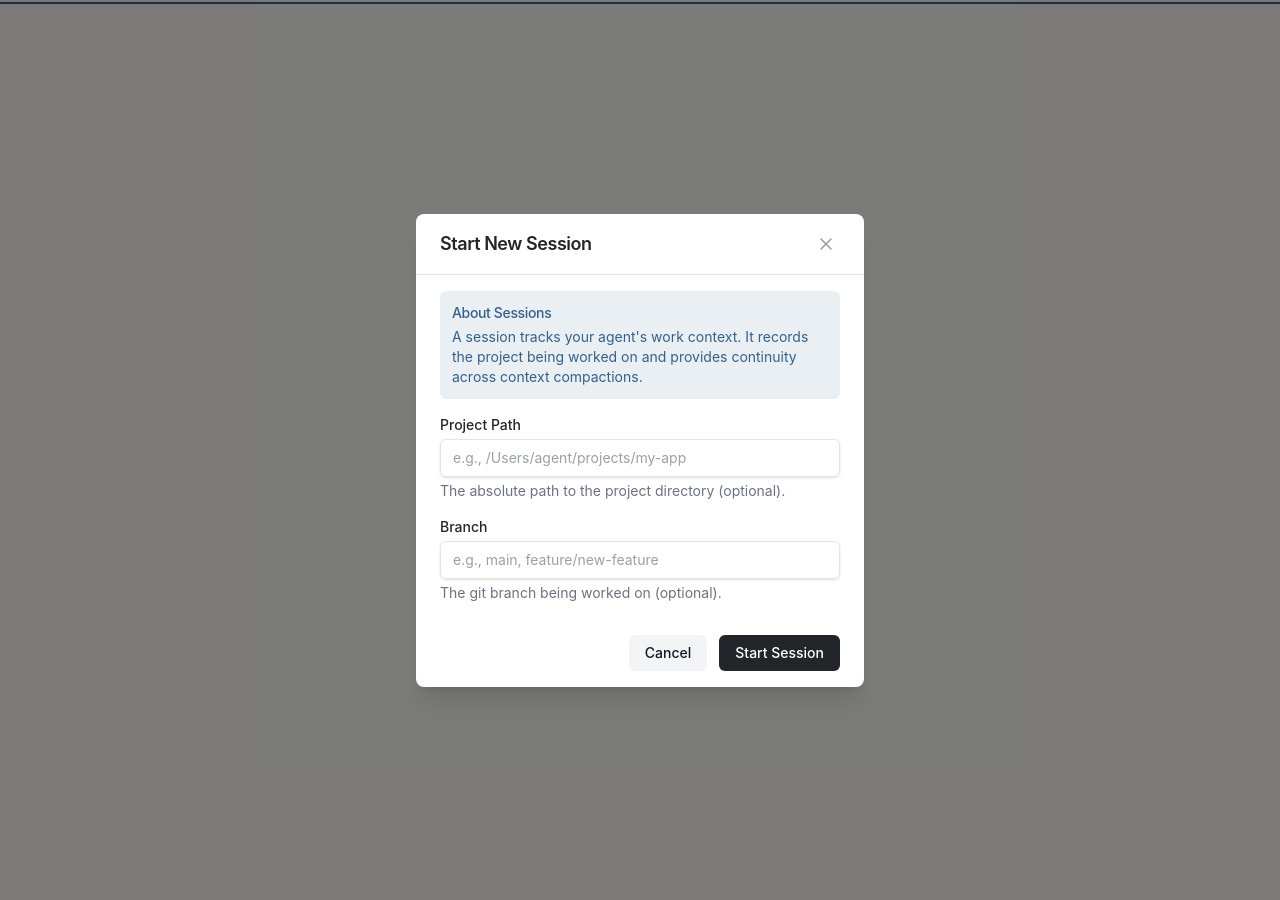
it: StartSessionModal › validates project path format
The width and height of the screenshot is (1280, 900).
In the field labelled "Project Path": (640, 458) top-left (440, 438), bottom-right (840, 476), type "relative/path"
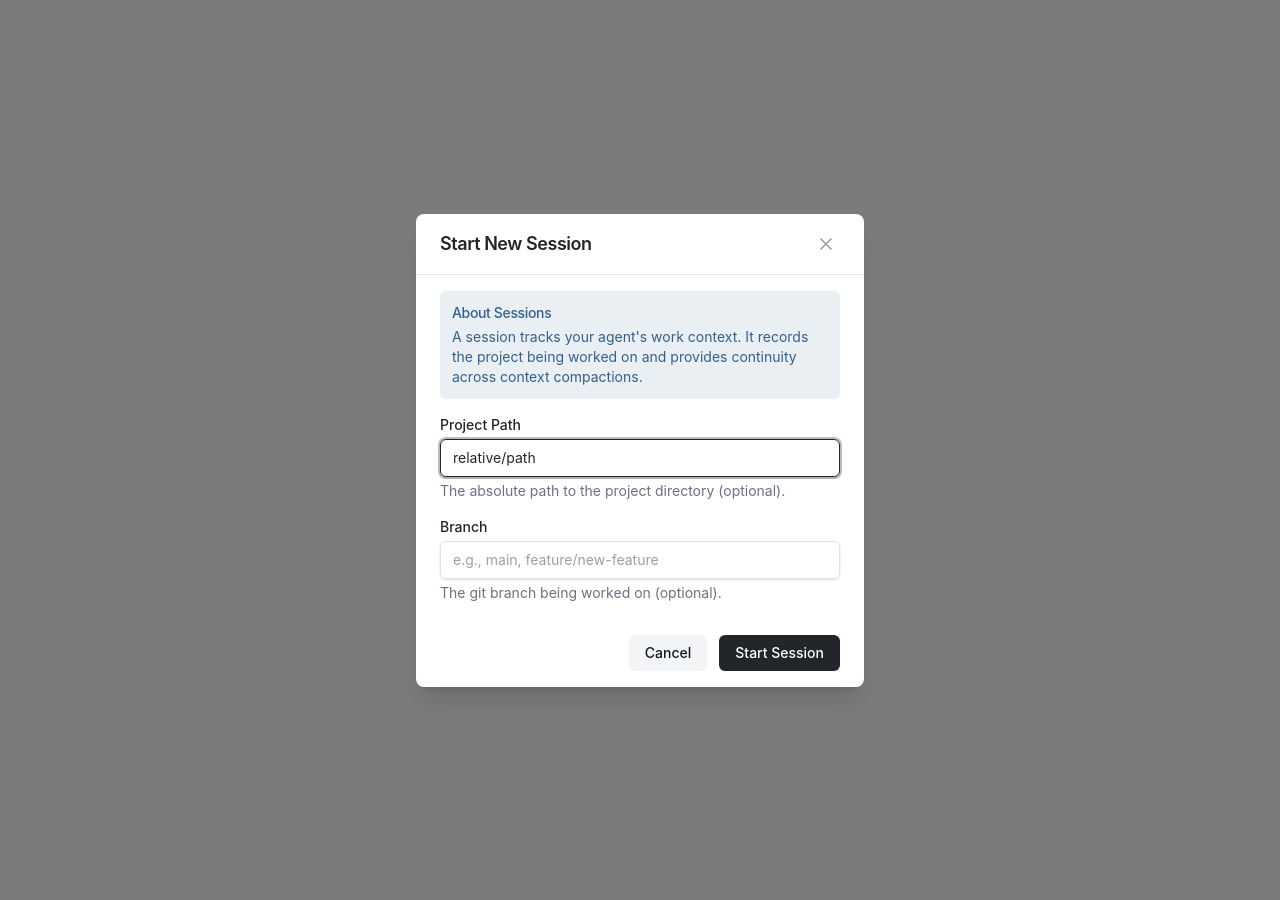
Click the button "Start Session": (780, 652) top-left (719, 634), bottom-right (840, 670)
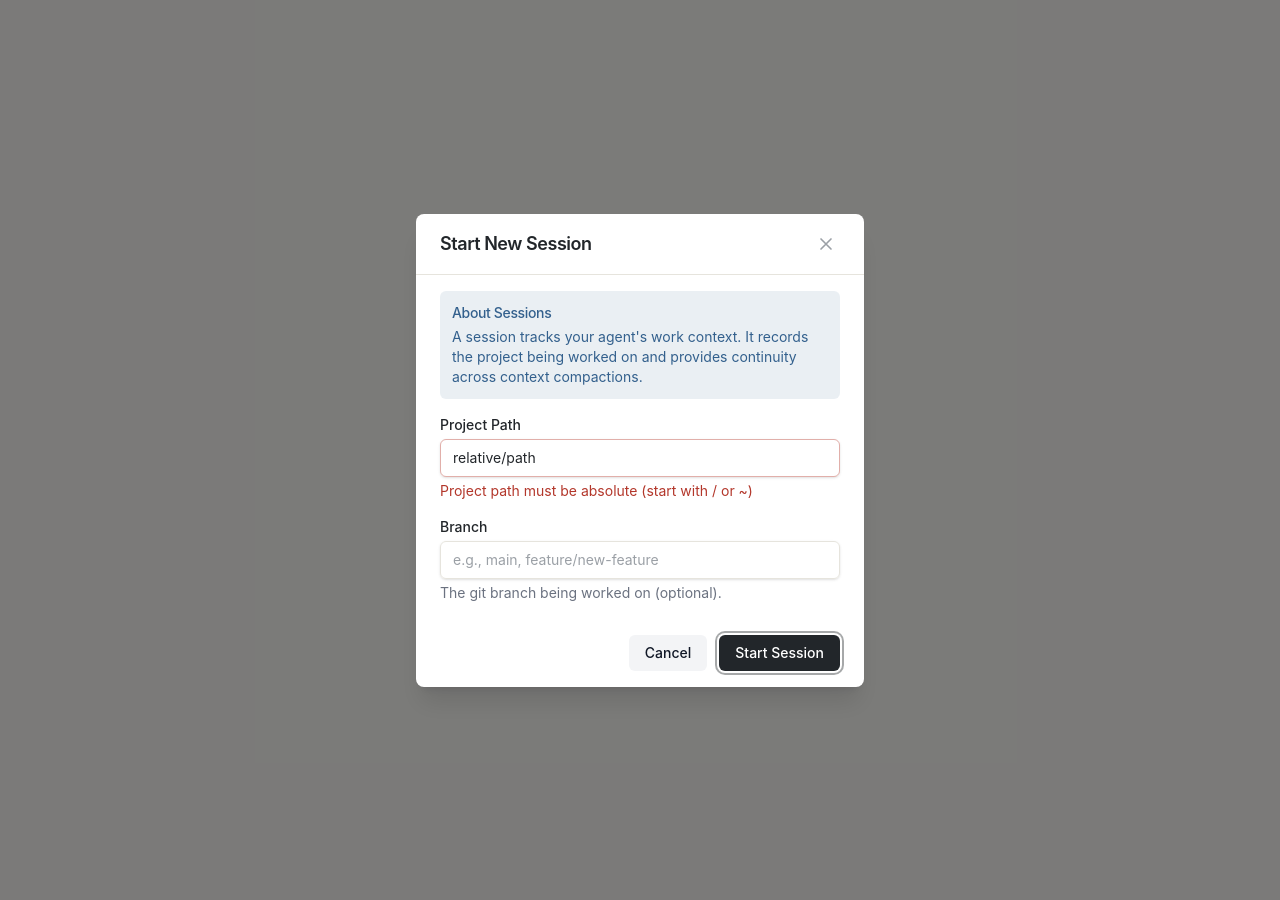
Check: the text "Project path must be absolute (start with / or ~)" is shown, box top-left (440, 482), bottom-right (753, 498)
